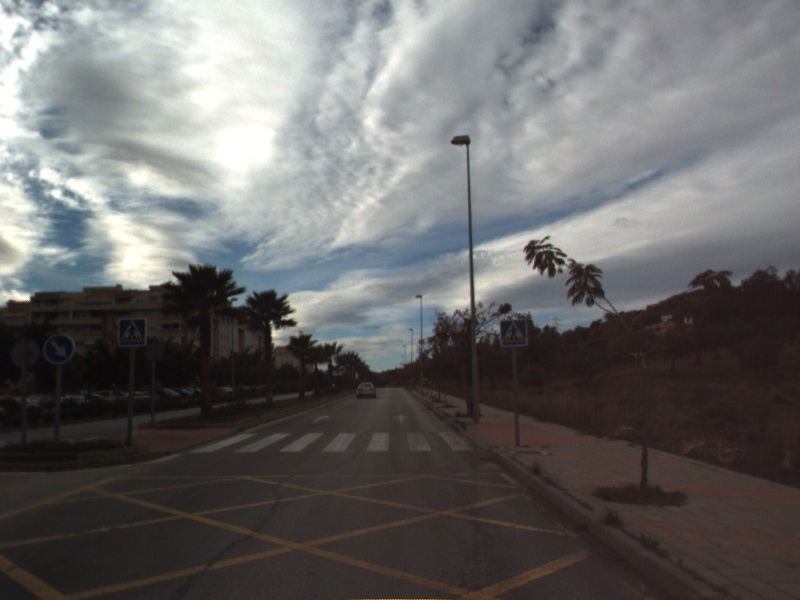STRAIGHT: (309, 413, 333, 425), (391, 412, 411, 425)
